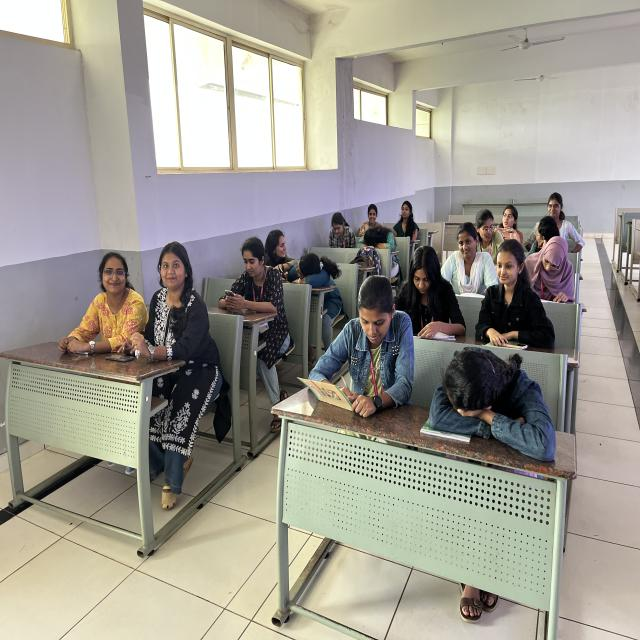Reading: (394, 246, 468, 341), (320, 206, 356, 249)
Sleeping: (419, 335, 559, 462), (360, 221, 399, 261)
Using Phone: (215, 230, 296, 356)
Writing: (301, 273, 415, 416)
